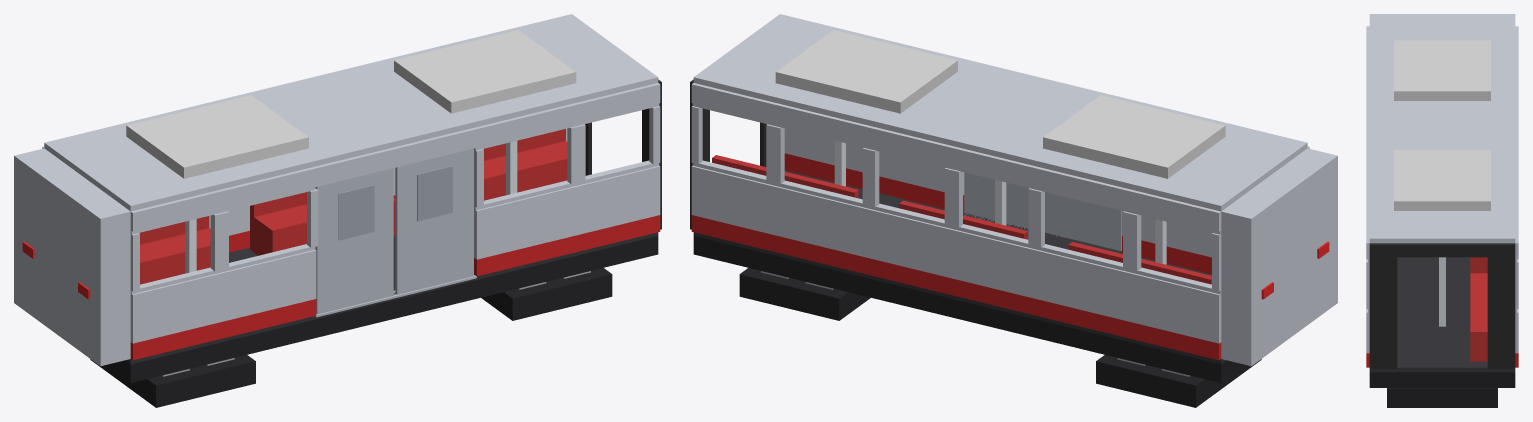
Rendered from metro_wagon_rear_closed_l3.obj.
The picture shows the model from 3 angles, left to right: view 1: azimuth 30°, elevation 25°; view 2: azimuth 150°, elevation 25°; view 3: azimuth 270°, elevation 25°; orthographic projection. The views are drawn at different scales.
Bounding box in the file's own units: 3.16 × 1.26 × 0.88.
